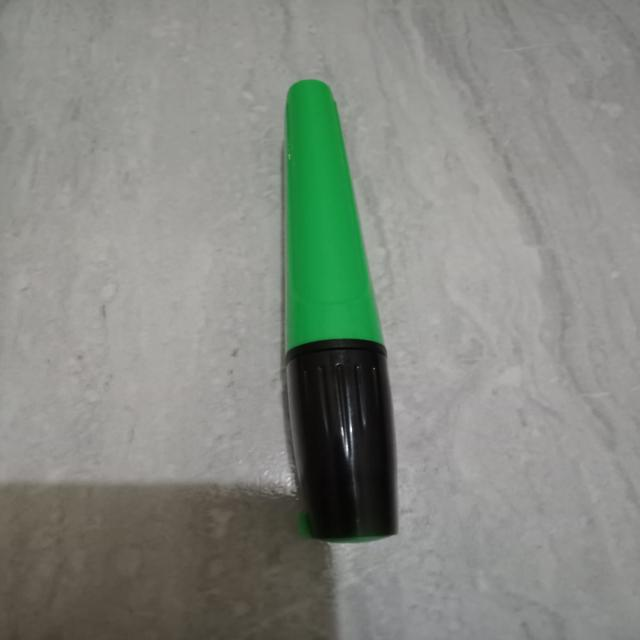highlighter: (246, 48, 422, 582)
